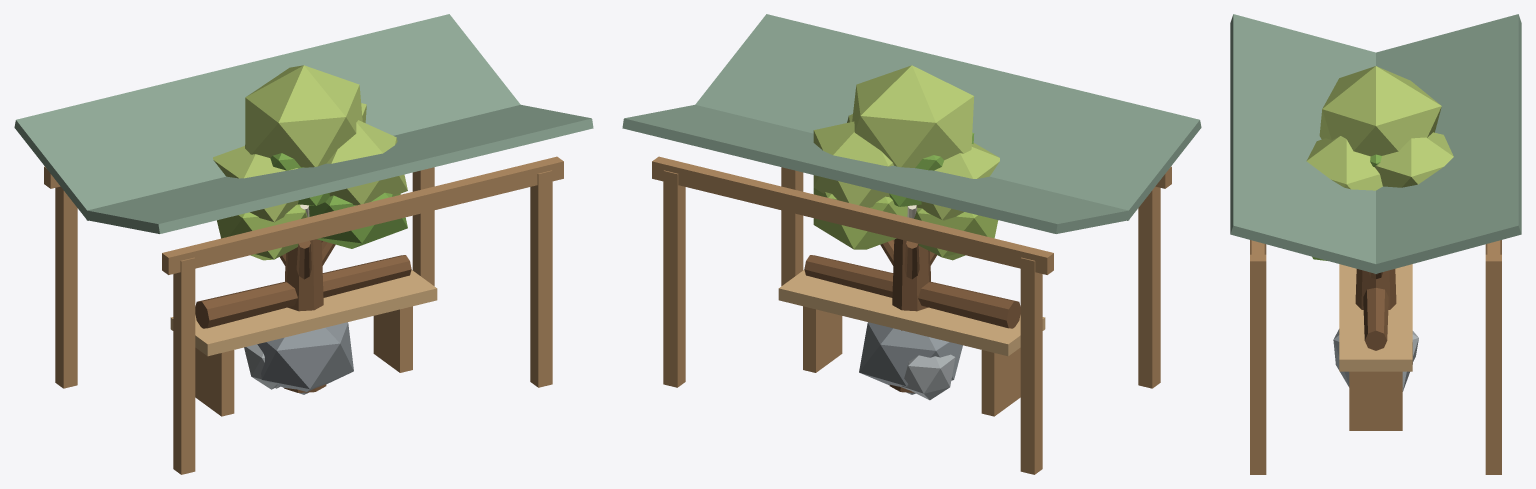
The model's file is ResourceWorldPack.glb.
The picture shows the model from 3 angles, left to right: view 1: azimuth 30°, elevation 25°; view 2: azimuth 150°, elevation 25°; view 3: azimuth 270°, elevation 25°; orthographic projection.
Parts seen in each view (by area): view 1: SawmillShelter_Roof, SawmillShelter_Wood, Birch_BirchLeaf, SawmillShelter_Cut, SawmillShelter_Bark, LargeBoulder_Stone, Oak_Bark, Oak_Leaf, Oak_LeafLight, LargeBoulder_StoneLight; view 2: SawmillShelter_Roof, SawmillShelter_Wood, Birch_BirchLeaf, SawmillShelter_Cut, SawmillShelter_Bark, LargeBoulder_Stone, Oak_LeafLight, Oak_Bark, LargeBoulder_StoneLight, Oak_Leaf; view 3: SawmillShelter_Roof, Birch_BirchLeaf, SawmillShelter_Wood, SawmillShelter_Cut, SawmillShelter_Bark, Oak_Bark, LargeBoulder_Stone.
Boxes of the visible parts, <box> form: SawmillShelter_Roof: <box>14,14,593,233</box>; SawmillShelter_Wood: <box>44,156,563,474</box>; Birch_BirchLeaf: <box>213,65,407,222</box>; SawmillShelter_Cut: <box>170,270,437,356</box>; SawmillShelter_Bark: <box>195,255,411,328</box>; LargeBoulder_Stone: <box>257,322,353,394</box>; Oak_Bark: <box>280,239,335,392</box>; Oak_Leaf: <box>270,153,407,248</box>; Oak_LeafLight: <box>217,204,309,260</box>; LargeBoulder_StoneLight: <box>244,344,277,389</box>; SawmillShelter_Roof: <box>622,14,1201,233</box>; SawmillShelter_Wood: <box>652,156,1171,474</box>; Birch_BirchLeaf: <box>813,65,999,220</box>; SawmillShelter_Cut: <box>778,270,1045,356</box>; SawmillShelter_Bark: <box>804,255,1020,328</box>; LargeBoulder_Stone: <box>859,322,962,394</box>; Oak_LeafLight: <box>813,188,998,260</box>; Oak_Bark: <box>880,238,936,392</box>; LargeBoulder_StoneLight: <box>902,354,955,400</box>; Oak_Leaf: <box>889,132,974,206</box>; SawmillShelter_Roof: <box>1230,14,1521,273</box>; Birch_BirchLeaf: <box>1306,66,1453,190</box>; SawmillShelter_Wood: <box>1250,240,1501,474</box>; SawmillShelter_Cut: <box>1339,264,1412,371</box>; SawmillShelter_Bark: <box>1363,288,1388,350</box>; Oak_Bark: <box>1355,269,1396,309</box>; LargeBoulder_Stone: <box>1333,329,1412,391</box>.
Bounding box in the file's own units: 17 × 12.35 × 9.88.
